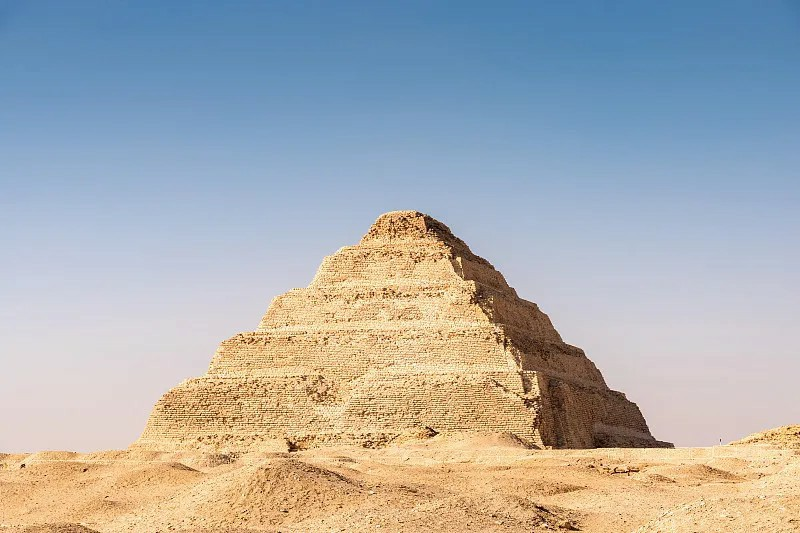Pyramid: (138, 212, 667, 451)
